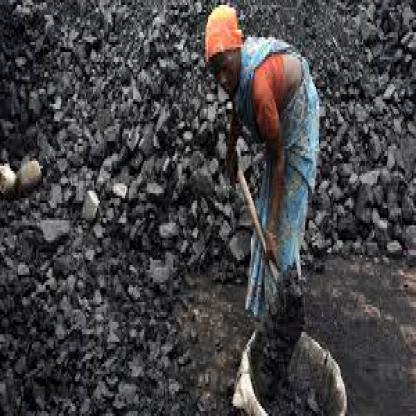Sedimentary_coal: (35, 206, 72, 248), (78, 184, 98, 220)
